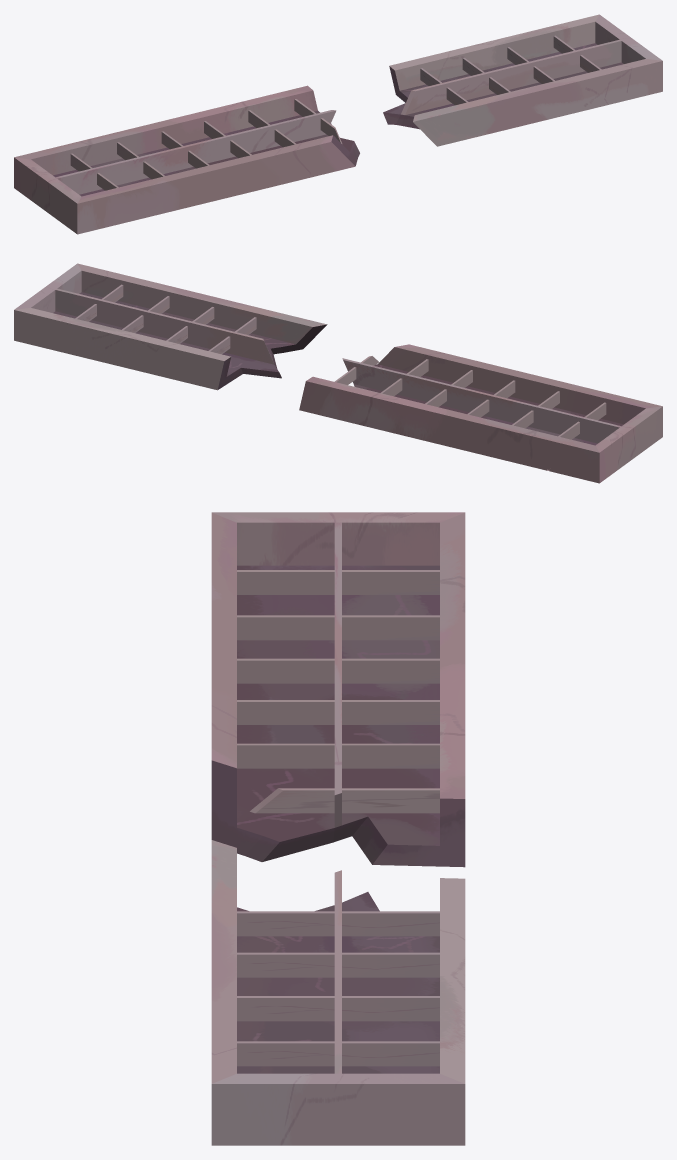
Rendered from Raster_lamp_broken01.fbx.
3 views of the same model, one above another, from view 1: azimuth 30°, elevation 25°; view 2: azimuth 150°, elevation 25°; view 3: azimuth 270°, elevation 25° (orthographic). The views are drawn at different scales.
Visible parts, largest first — view 1: Raster_lamp_broken02, Raster_lamp_broken01; view 2: Raster_lamp_broken02, Raster_lamp_broken01; view 3: Raster_lamp_broken02, Raster_lamp_broken01.
Boxes of the visible parts, x1,y1,x2,y2 form: Raster_lamp_broken02: (14, 85, 359, 234); Raster_lamp_broken01: (383, 14, 662, 146); Raster_lamp_broken02: (299, 344, 662, 483); Raster_lamp_broken01: (14, 263, 327, 390); Raster_lamp_broken02: (211, 512, 465, 867); Raster_lamp_broken01: (211, 840, 465, 1145).
Bounding box in the file's own units: 2.33 × 0.117 × 0.4374.
Materials: 2 (2 with a texture image).
